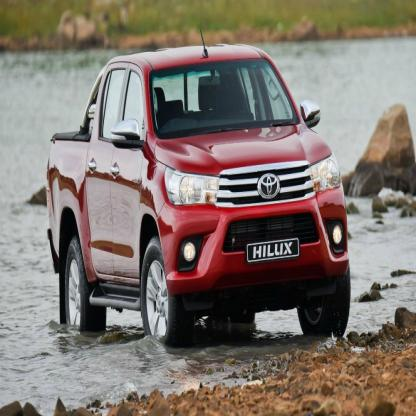light_vehicle: (38, 39, 356, 369)
